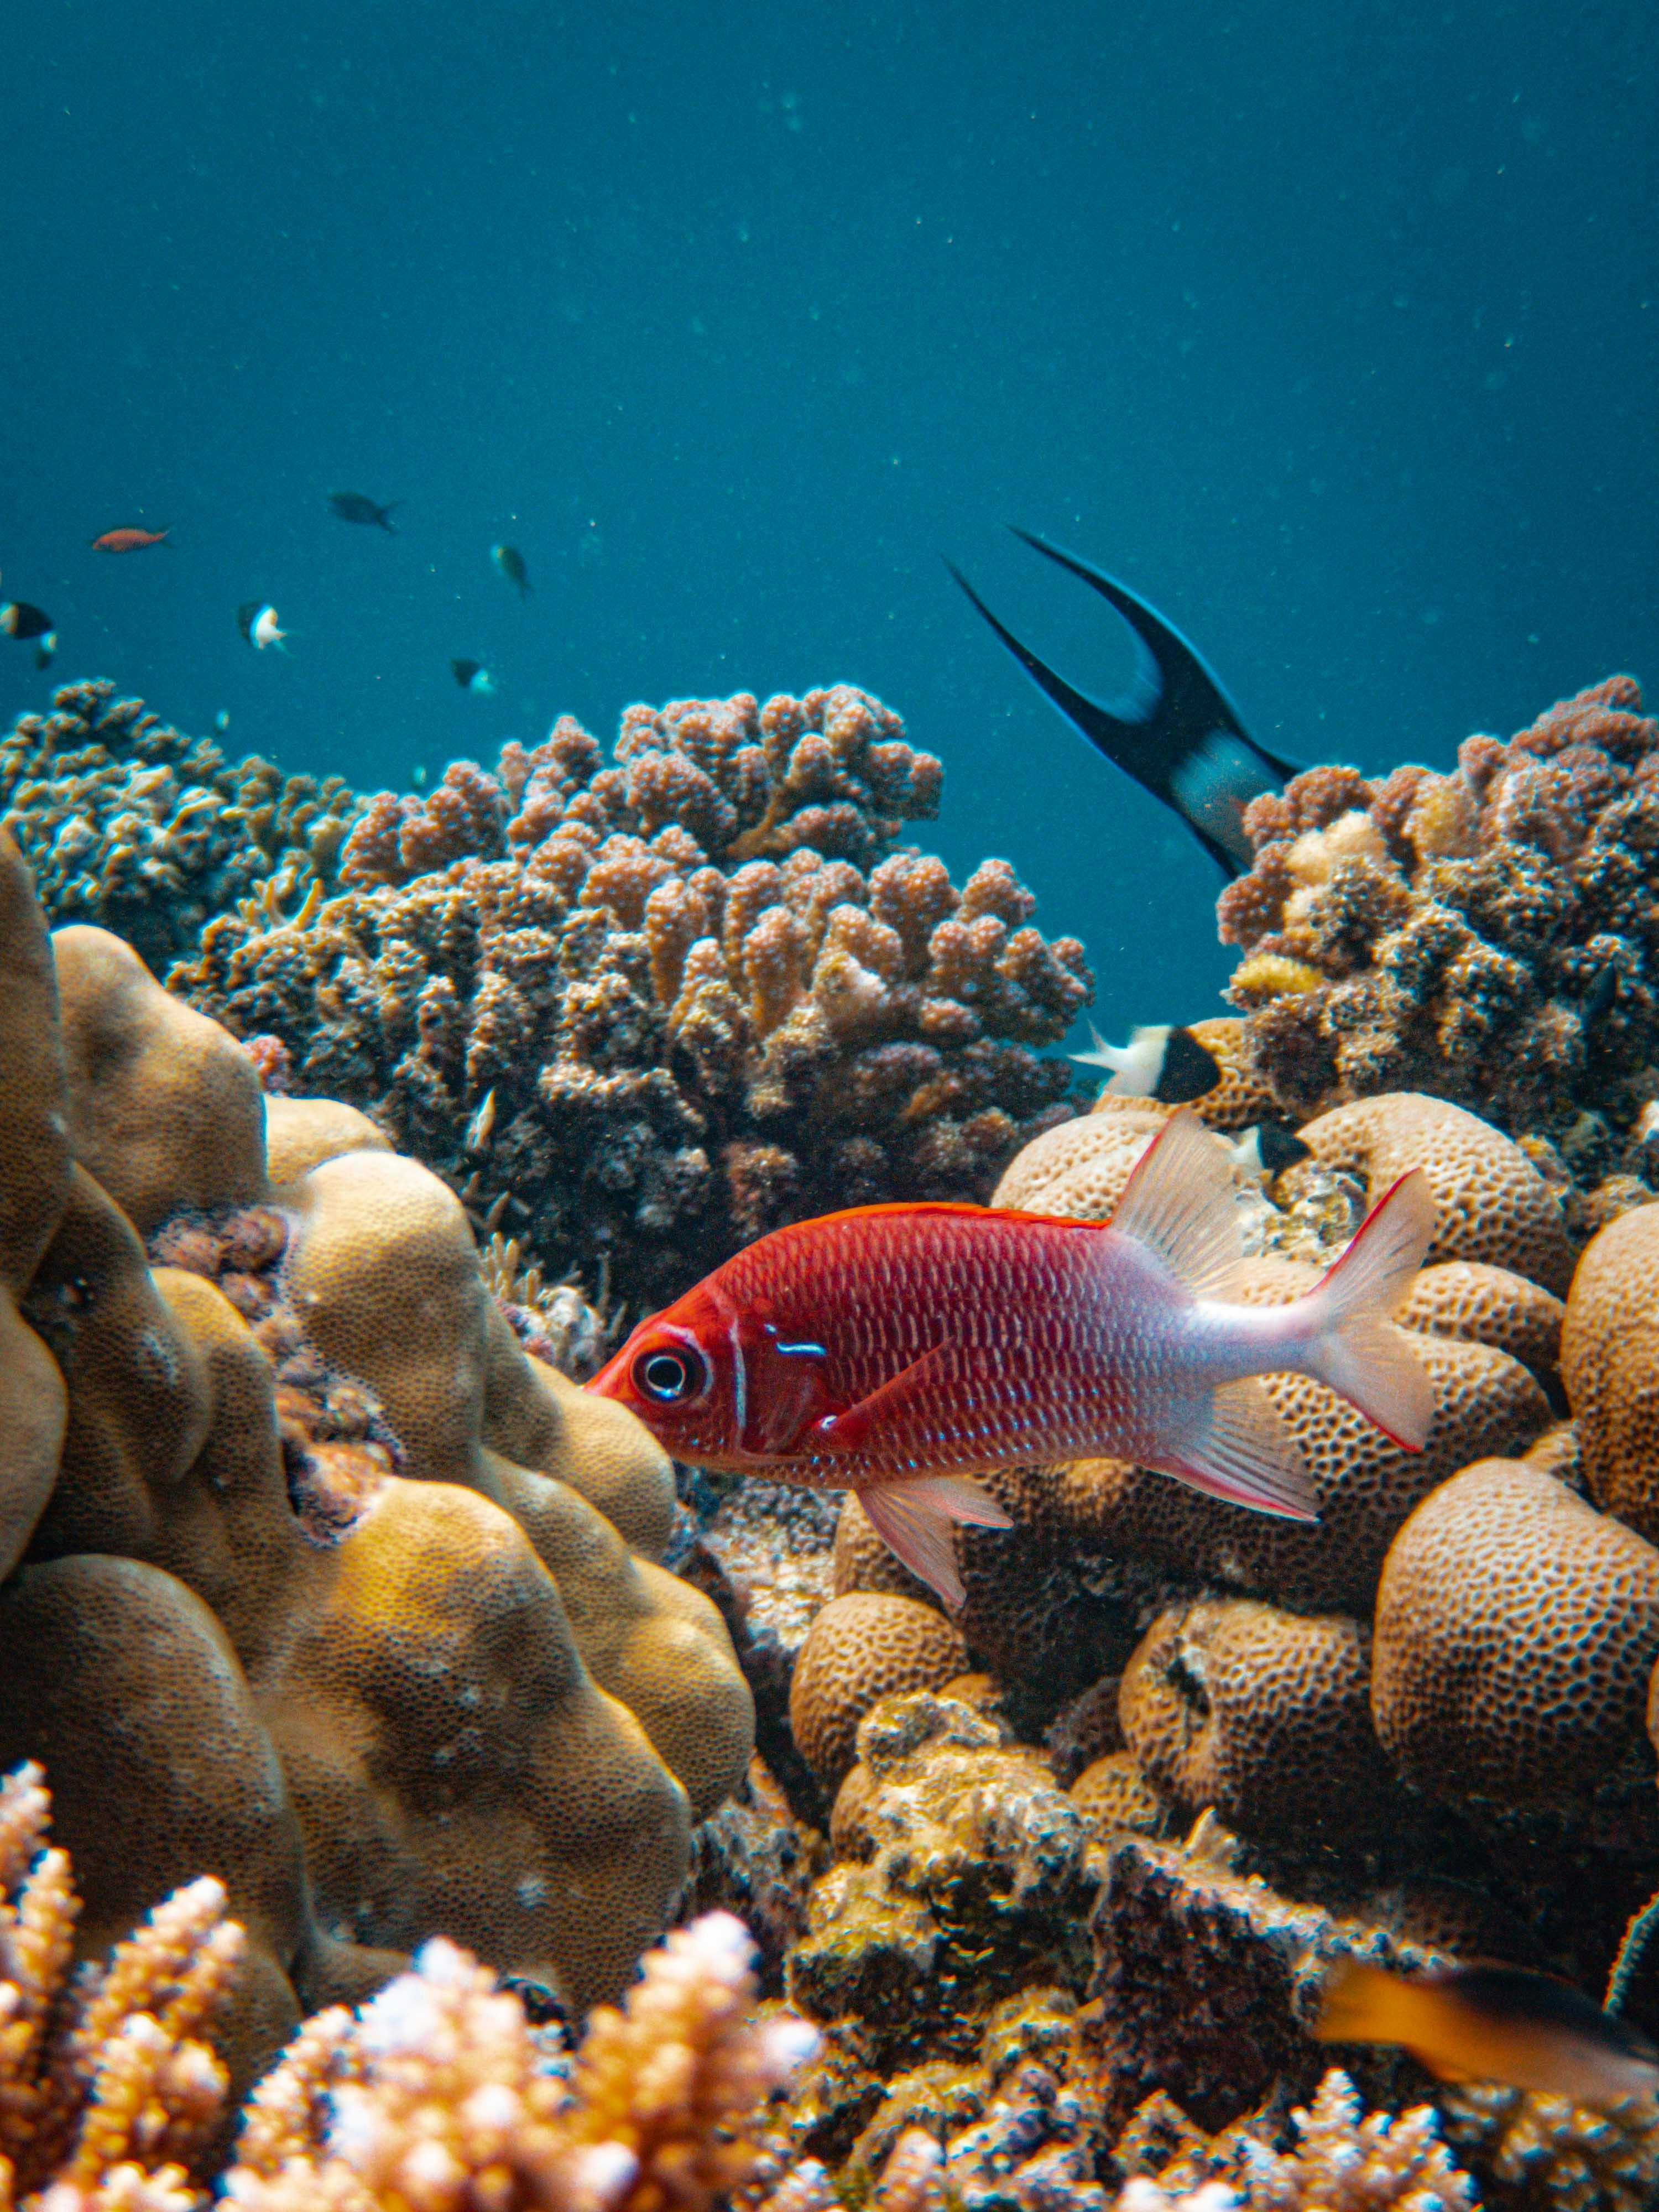fishRound: (1070, 1019, 1223, 1104), (326, 486, 408, 536), (237, 597, 303, 658), (0, 590, 58, 651), (446, 651, 502, 705)
fishSmall: (580, 1108, 1439, 1622), (1305, 1959, 1657, 2097), (92, 521, 181, 556)
